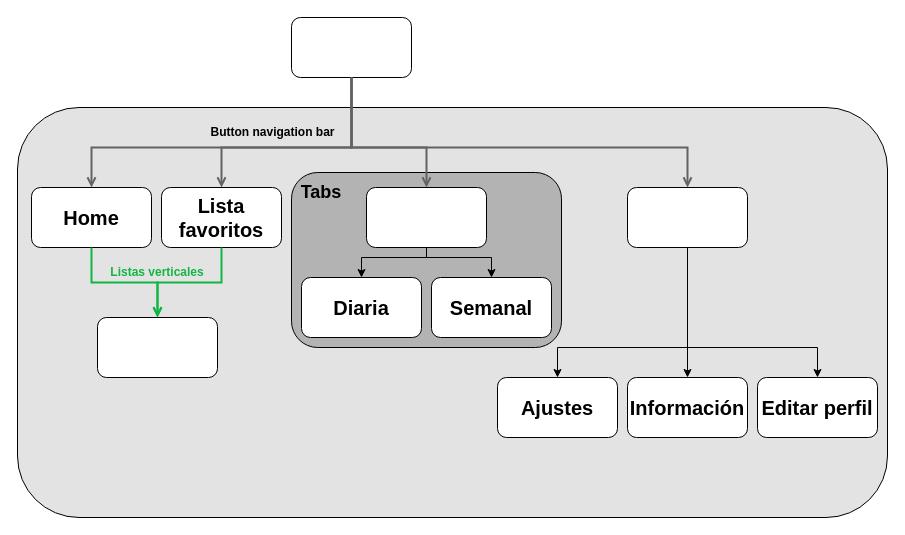
Some shapes in this 905 by 535 pixel diagram are drawn without their labels. The box of each missing label's shape, as (x1, y1, x2, y2) in pixels:
Detalles Fruta: (96, 316, 218, 378)
Ingesta: (366, 186, 486, 248)
Login: (290, 16, 412, 78)
Perfil: (626, 186, 748, 248)
